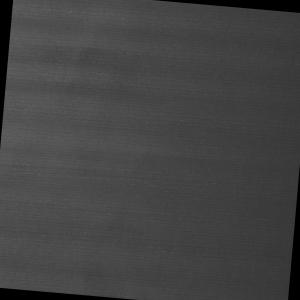Wrinkle: (1, 1, 164, 300)
